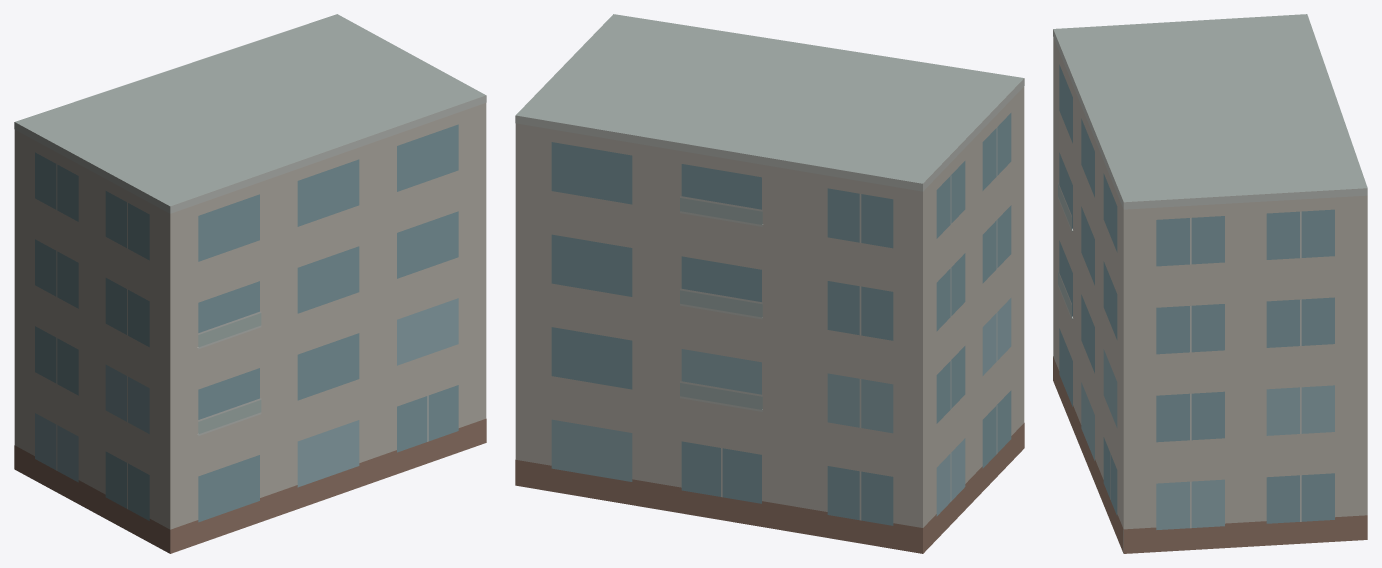
The model's file is survey-upis-32540598.glb.
3 renders of one model, left to right at view 1: azimuth 30°, elevation 25°; view 2: azimuth 150°, elevation 25°; view 3: azimuth 270°, elevation 25°, orthographic. The views are drawn at different scales.
Parts seen in each view (by area): view 1: survey-upis-32540598.tmp; view 2: survey-upis-32540598.tmp; view 3: survey-upis-32540598.tmp.
Boxes of the visible parts, bbox=[...] form: survey-upis-32540598.tmp: bbox=[14, 14, 486, 553]; survey-upis-32540598.tmp: bbox=[515, 14, 1024, 553]; survey-upis-32540598.tmp: bbox=[1053, 14, 1367, 553].
Bounding box in the file's own units: 13.21 × 11.5 × 9.34.
